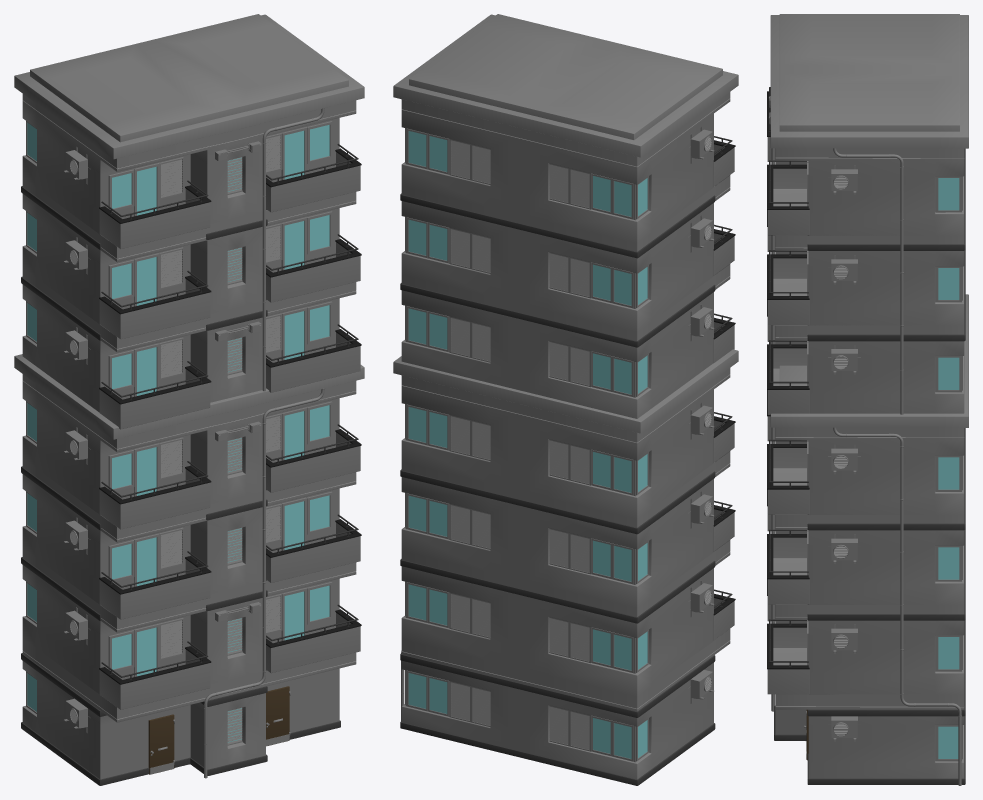
The model's file is SM_apartment_building_01.fbx.
3 views of the same model, side by side, from view 1: azimuth 30°, elevation 25°; view 2: azimuth 150°, elevation 25°; view 3: azimuth 270°, elevation 25° (orthographic).
Visible parts, largest first — view 1: Box767; view 2: Box767; view 3: Box767.
Boxes of the visible parts, bbox=[...] form: Box767: bbox=[14, 14, 364, 785]; Box767: bbox=[393, 14, 738, 785]; Box767: bbox=[767, 14, 968, 785].
Bounding box in the file's own units: 479 × 1140 × 317.
